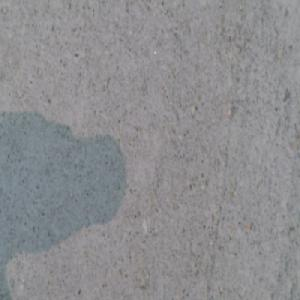Washer: (141, 286, 165, 300)
